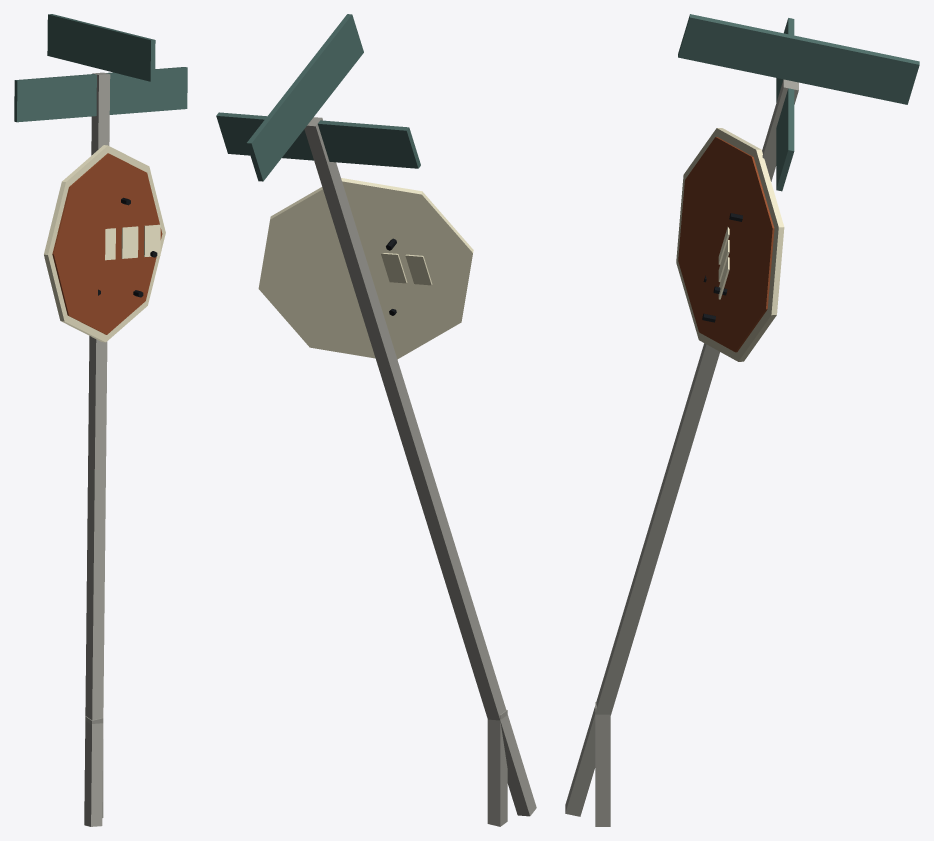
Rendered from stop_sign.glb.
3 views of the same model, side by side, from view 1: azimuth 30°, elevation 25°; view 2: azimuth 150°, elevation 25°; view 3: azimuth 270°, elevation 25° (orthographic). The views are drawn at different scales.
Visible parts, largest first — view 1: octagon, post, blade_a, blade_b, octagon_border, letter_3, letter_4, letter_2; view 2: octagon_border, post, blade_b, blade_a, post_foot; view 3: octagon, blade_b, post, octagon_border, post_foot, blade_a.
Boxes of the visible parts, left/top/right/bottom form: octagon: left=52, top=153, right=162, bottom=334; post: left=84, top=72, right=110, bottom=826; blade_a: left=14, top=67, right=187, bottom=122; blade_b: left=47, top=14, right=155, bottom=81; octagon_border: left=44, top=145, right=165, bottom=342; letter_3: left=121, top=226, right=138, bottom=258; letter_4: left=144, top=224, right=160, bottom=256; letter_2: left=105, top=228, right=115, bottom=260; octagon_border: left=258, top=178, right=473, bottom=359; post: left=304, top=117, right=536, bottom=816; blade_b: left=246, top=14, right=363, bottom=181; blade_a: left=216, top=112, right=420, bottom=168; post_foot: left=487, top=710, right=507, bottom=826; octagon: left=678, top=137, right=774, bottom=352; blade_b: left=678, top=14, right=919, bottom=104; post: left=565, top=79, right=798, bottom=816; octagon_border: left=676, top=128, right=784, bottom=361; post_foot: left=595, top=702, right=610, bottom=826; blade_a: left=776, top=18, right=794, bottom=191.
Size of the model in its own units: 0.8415 by 3.06 by 1.14.
